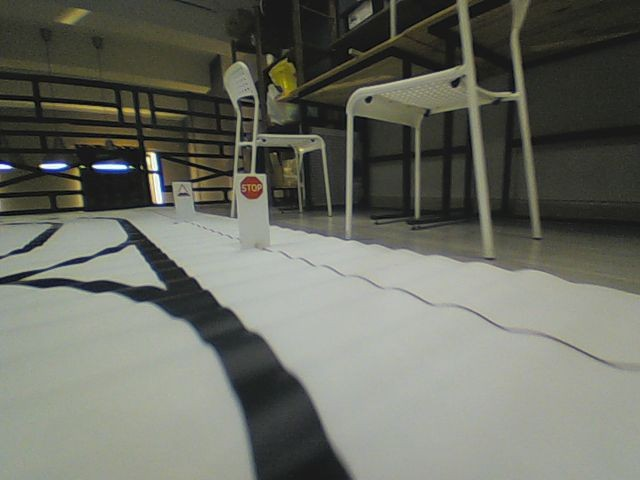Nerov: (175, 183, 189, 198)
Stop: (238, 174, 263, 200)
